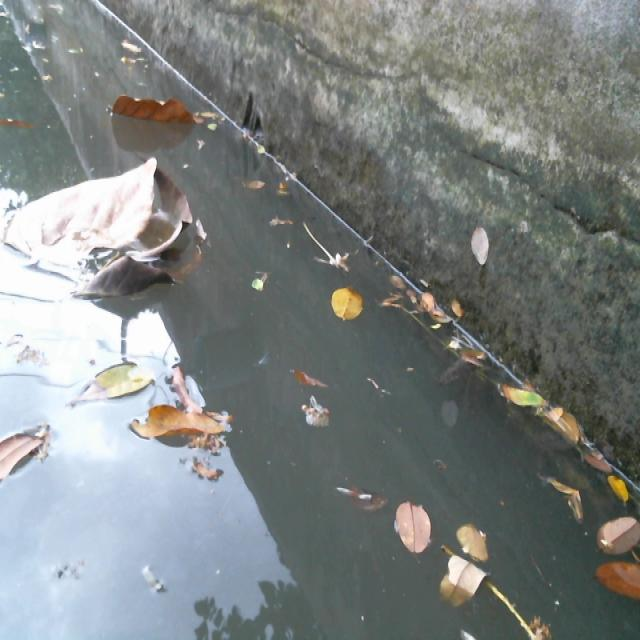Big-leaf: (0, 162, 208, 295), (131, 376, 252, 456), (113, 84, 206, 132)
Small-leaf: (65, 359, 160, 405), (0, 418, 55, 485), (325, 279, 379, 333), (441, 553, 485, 613), (399, 497, 435, 565), (535, 401, 588, 445), (599, 555, 640, 604), (597, 508, 640, 554), (455, 530, 505, 567), (581, 434, 615, 478), (606, 467, 637, 507), (507, 382, 555, 406), (122, 35, 156, 67), (251, 264, 282, 298), (0, 112, 50, 132)
